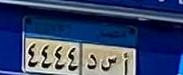4: (27, 41, 40, 69), (67, 46, 78, 73), (54, 45, 65, 72), (41, 44, 52, 70)
alif: (120, 52, 131, 75)
daal: (87, 53, 99, 73)
seen: (101, 54, 117, 73)
